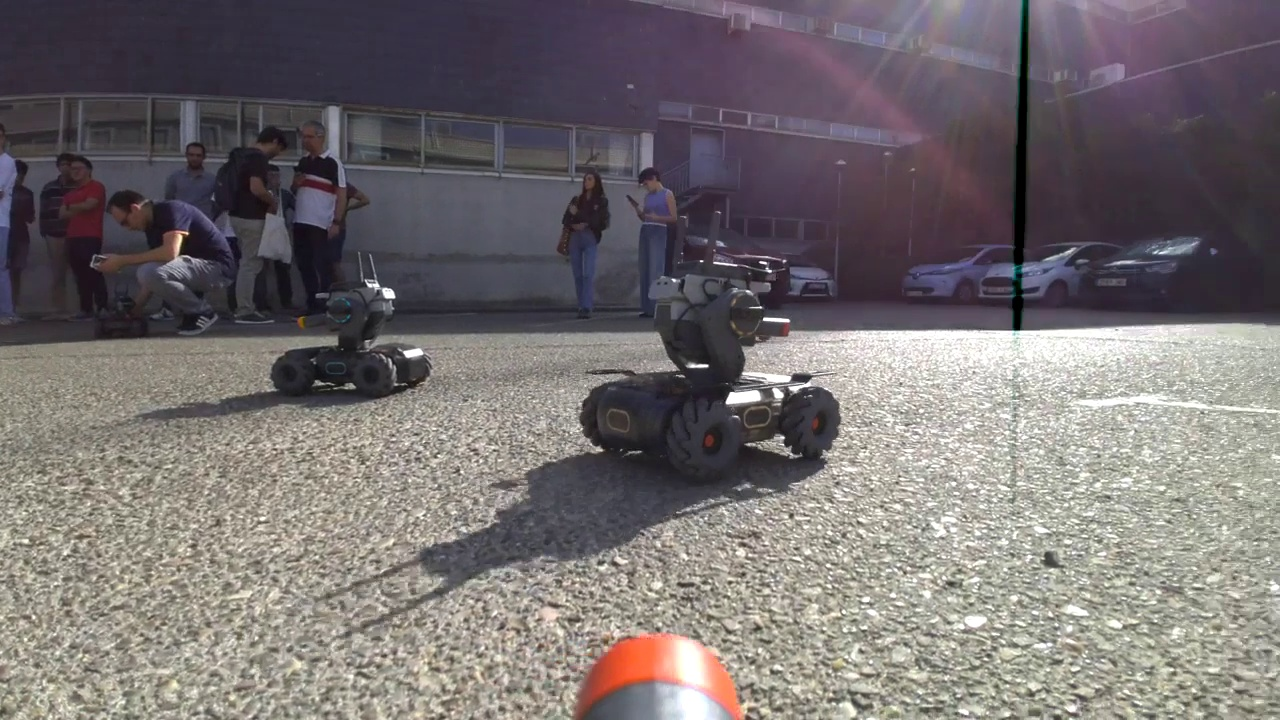robot: (582, 205, 842, 488), (271, 248, 431, 397)
